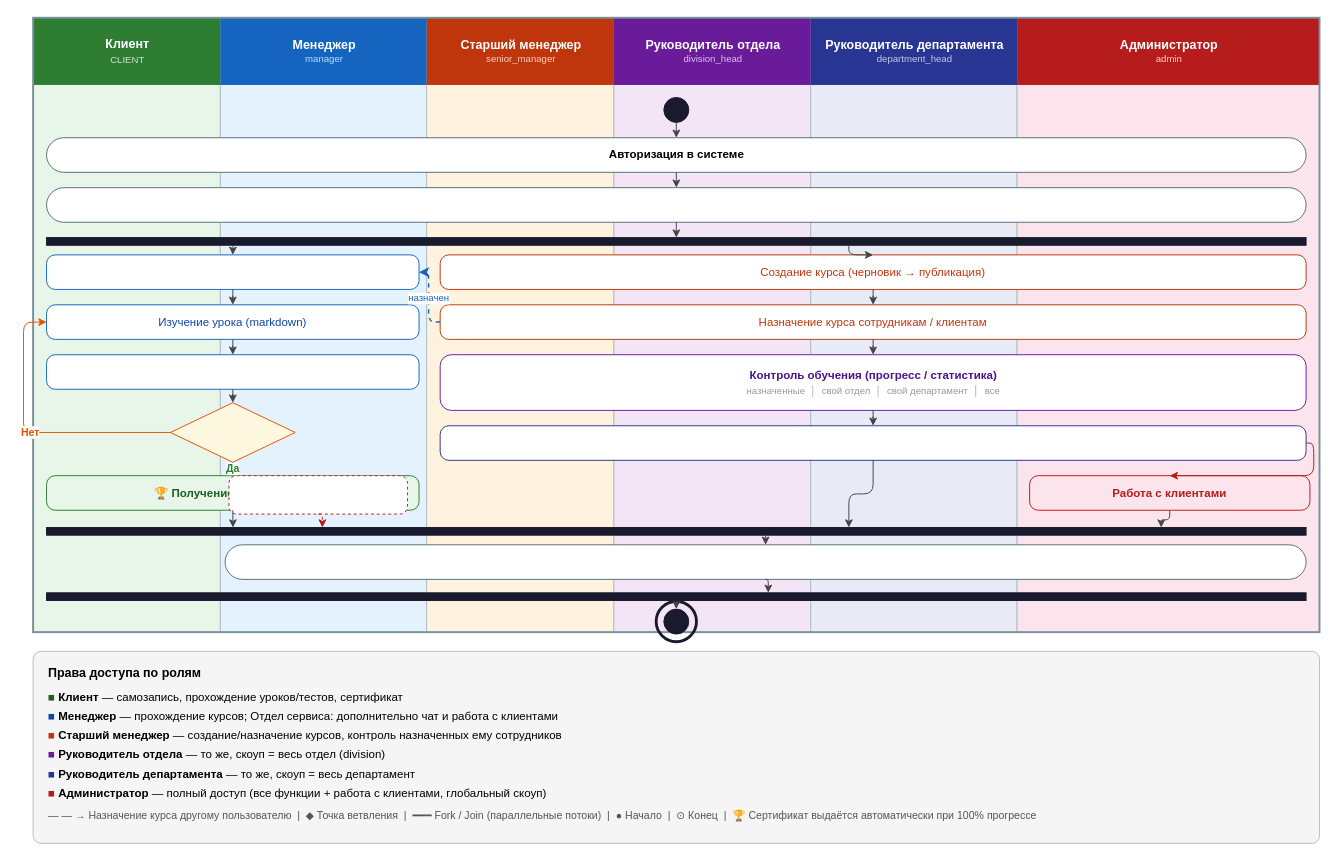
This 1338x860 diagram has some shape labels left out. The shapes that lost their labels are listed below. From the top down, each one's box as (x1, y1, x2, y2) in pixels, then its label:
(46, 187, 1306, 222): Просмотр каталога курсов · Главная страница с прогрессом
(46, 254, 419, 289): Запись на курс
(46, 354, 419, 389): Прохождение теста
(169, 402, 295, 462): Прогресс = 100%?
(439, 425, 1306, 460): Управление сотрудниками · Инвайты
(228, 475, 408, 514): Отдел сервиса: чат с клиентами
(224, 544, 1306, 579): Общение в чате (сотрудники ↔ сотрудники)
